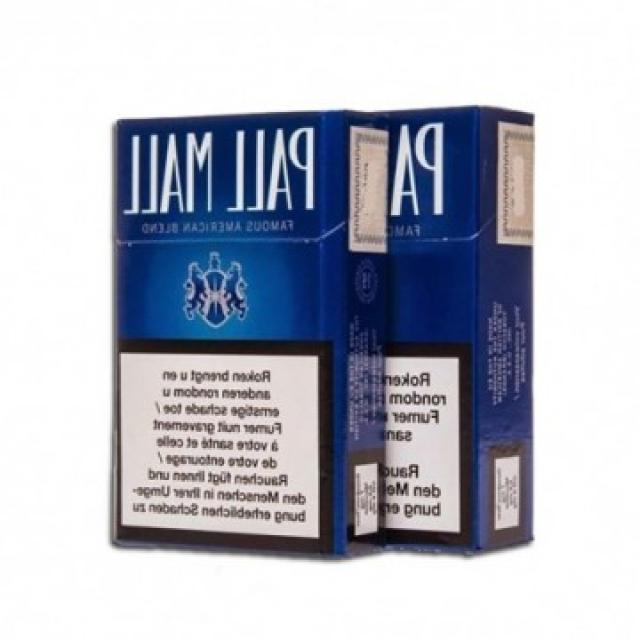pallmall: (107, 108, 391, 546), (372, 112, 532, 560)
